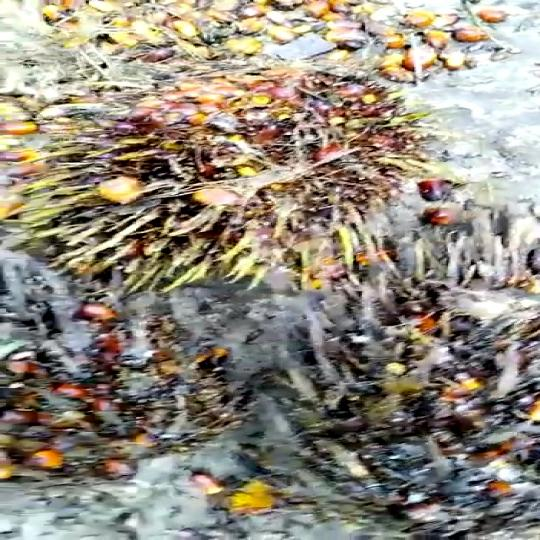terlalu masak: (0, 66, 447, 298), (277, 221, 540, 537), (0, 260, 272, 494)
